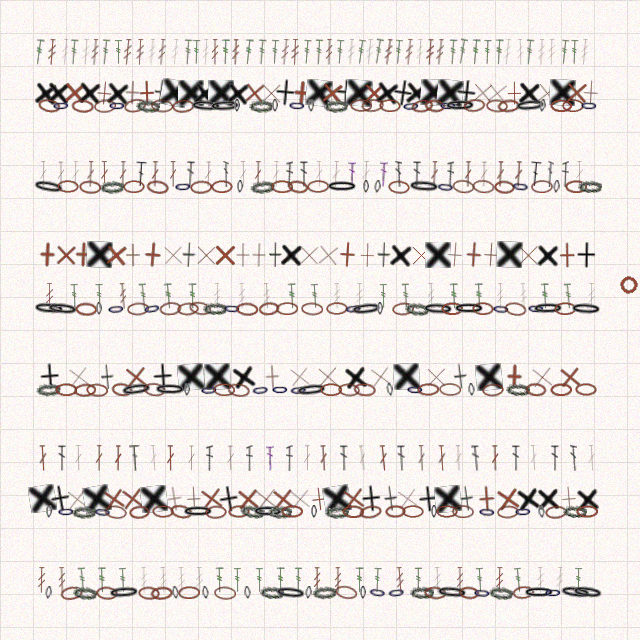chain: (32, 178, 65, 196), (120, 381, 153, 398), (559, 584, 592, 601), (571, 584, 604, 601), (46, 301, 79, 317), (350, 301, 383, 317), (295, 382, 328, 398), (274, 585, 307, 601), (514, 98, 547, 113), (408, 179, 440, 194), (33, 301, 65, 316), (108, 585, 140, 600), (436, 585, 468, 600), (190, 99, 222, 113), (209, 99, 241, 113), (422, 302, 454, 316), (570, 302, 602, 316), (444, 99, 476, 112), (326, 180, 358, 193), (453, 302, 485, 315), (532, 302, 564, 315), (154, 383, 186, 396), (182, 505, 214, 518), (252, 505, 284, 518), (523, 586, 555, 599), (37, 97, 61, 114), (123, 97, 147, 114), (188, 300, 212, 317), (169, 503, 193, 520), (334, 584, 358, 601), (250, 179, 275, 195), (36, 382, 61, 397), (240, 504, 265, 519), (312, 585, 337, 600), (411, 98, 434, 114), (146, 179, 169, 195), (504, 301, 527, 317), (227, 382, 250, 398), (104, 504, 127, 520), (359, 504, 382, 520), (60, 585, 83, 601), (287, 179, 309, 195), (361, 98, 384, 113), (463, 98, 486, 113), (452, 179, 475, 194), (472, 179, 495, 194), (159, 301, 182, 316), (143, 382, 166, 397), (353, 382, 376, 397), (512, 585, 535, 600), (136, 99, 160, 113), (249, 99, 273, 113), (324, 99, 348, 113), (100, 180, 124, 194), (405, 302, 429, 316), (72, 505, 96, 519), (268, 505, 292, 519), (325, 505, 349, 519), (73, 586, 97, 600), (489, 586, 513, 600), (258, 301, 280, 316), (111, 382, 133, 397), (525, 382, 547, 397), (71, 99, 94, 113), (497, 99, 520, 113), (150, 586, 173, 600), (578, 180, 602, 193), (203, 302, 227, 315), (506, 383, 530, 396), (563, 505, 587, 518), (260, 586, 284, 599), (410, 586, 434, 599), (94, 99, 116, 113), (151, 99, 173, 113), (172, 99, 194, 113), (424, 99, 446, 113), (486, 99, 508, 113), (79, 180, 101, 194), (190, 180, 212, 194), (388, 180, 410, 194), (75, 302, 97, 316), (127, 302, 149, 316), (177, 302, 199, 316), (236, 302, 258, 316), (301, 302, 323, 316), (392, 302, 414, 316), (74, 383, 96, 397), (86, 383, 108, 397), (338, 383, 360, 397), (482, 383, 504, 397), (205, 505, 227, 519), (497, 505, 519, 519), (545, 505, 567, 519), (96, 586, 118, 600), (138, 586, 160, 600), (214, 586, 236, 600), (424, 586, 446, 600), (458, 586, 480, 600), (142, 301, 162, 316), (494, 180, 515, 194), (129, 505, 150, 519), (350, 99, 372, 112), (379, 99, 401, 112), (550, 99, 572, 112), (562, 99, 584, 112), (57, 180, 79, 193), (123, 180, 145, 193), (211, 180, 233, 193), (271, 180, 293, 193), (307, 180, 329, 193), (531, 180, 553, 193), (565, 180, 587, 193), (276, 302, 298, 315), (326, 302, 348, 315), (441, 302, 463, 315), (472, 302, 494, 315), (554, 302, 576, 315), (55, 383, 77, 396), (213, 383, 235, 396), (320, 383, 342, 396), (417, 383, 439, 396), (439, 383, 461, 396), (550, 383, 572, 396), (575, 383, 597, 396), (152, 505, 174, 518), (228, 505, 250, 518), (281, 505, 303, 518), (342, 505, 364, 518), (402, 505, 424, 518), (436, 505, 458, 518), (452, 505, 474, 518), (576, 505, 598, 518), (178, 586, 200, 599), (511, 179, 530, 194), (344, 301, 363, 316), (368, 585, 387, 600), (387, 585, 406, 600), (385, 505, 406, 518), (436, 180, 455, 194), (251, 383, 270, 397), (289, 383, 308, 397), (93, 505, 112, 519), (402, 99, 420, 113), (107, 302, 125, 316), (492, 302, 510, 316), (200, 383, 218, 397), (478, 505, 496, 519), (473, 586, 491, 600), (52, 99, 70, 112), (108, 99, 126, 112), (288, 99, 306, 112), (439, 99, 457, 112), (580, 99, 598, 112), (174, 180, 192, 193), (223, 302, 241, 315), (527, 302, 545, 315), (271, 383, 289, 396), (406, 383, 424, 396), (57, 505, 75, 518), (514, 505, 532, 518), (544, 586, 562, 599), (386, 383, 394, 396), (539, 99, 546, 112), (374, 180, 381, 193), (553, 180, 560, 193), (468, 383, 475, 396), (538, 505, 545, 518), (45, 586, 52, 599), (172, 586, 179, 599), (202, 586, 209, 599), (244, 586, 251, 599), (305, 586, 312, 599), (234, 99, 240, 112), (272, 99, 278, 112), (308, 99, 314, 112), (237, 180, 243, 193), (363, 180, 369, 193), (96, 302, 102, 315), (377, 302, 383, 315), (184, 383, 190, 396), (46, 505, 52, 518), (311, 505, 317, 518), (431, 505, 437, 518), (360, 586, 366, 599)
double: (529, 161, 542, 187), (135, 161, 147, 187), (129, 445, 141, 471), (357, 445, 368, 471), (378, 445, 389, 471), (331, 161, 341, 187), (361, 161, 371, 187), (38, 445, 48, 471), (437, 445, 447, 471), (471, 445, 481, 471), (71, 161, 80, 187), (86, 161, 95, 187), (100, 161, 109, 187), (186, 161, 195, 187), (379, 161, 388, 187), (430, 161, 439, 187), (496, 161, 505, 187), (514, 161, 523, 187), (575, 161, 584, 187), (74, 445, 83, 471), (149, 445, 158, 471), (166, 445, 175, 471), (187, 445, 196, 471), (226, 445, 235, 471), (319, 445, 328, 471), (397, 445, 406, 471), (417, 445, 426, 471), (454, 445, 463, 471), (529, 445, 538, 471), (587, 445, 596, 471), (39, 161, 47, 187), (57, 161, 65, 187), (119, 161, 127, 187), (151, 161, 159, 187), (169, 161, 177, 187), (204, 161, 212, 187), (239, 161, 247, 187), (254, 161, 262, 187), (272, 161, 280, 187), (300, 161, 308, 187), (315, 161, 323, 187), (348, 161, 356, 187), (413, 161, 421, 187), (464, 161, 472, 187), (480, 161, 488, 187), (546, 161, 554, 187), (58, 445, 66, 471), (95, 445, 103, 471), (114, 445, 122, 471), (266, 445, 274, 471), (303, 445, 311, 471), (340, 445, 348, 471), (491, 445, 499, 471), (512, 445, 520, 471), (551, 445, 559, 471), (286, 161, 293, 187), (395, 161, 402, 187), (447, 161, 454, 187), (562, 161, 569, 187), (206, 445, 213, 471), (246, 445, 253, 471), (286, 445, 293, 471), (570, 445, 577, 471), (223, 161, 229, 187)
noise: (617, 273, 640, 296)
single: (159, 78, 189, 108), (82, 484, 112, 514), (99, 484, 129, 514), (322, 484, 352, 514), (493, 484, 523, 514), (64, 362, 93, 391), (285, 362, 314, 391), (366, 362, 395, 391), (28, 484, 57, 513), (118, 484, 147, 513), (160, 484, 189, 513), (197, 484, 226, 513), (339, 484, 368, 513), (393, 484, 422, 513), (230, 362, 258, 391), (90, 79, 118, 107), (288, 79, 316, 107), (305, 79, 333, 107), (318, 79, 346, 107), (345, 79, 373, 107), (436, 79, 464, 107), (483, 79, 511, 107), (533, 79, 561, 107), (102, 241, 130, 269), (314, 241, 342, 269), (122, 363, 150, 391), (177, 363, 205, 391), (475, 363, 503, 391), (528, 363, 556, 391), (556, 363, 584, 391), (63, 485, 91, 513), (140, 485, 168, 513), (234, 485, 262, 513), (252, 485, 280, 513), (269, 485, 297, 513), (286, 485, 314, 513), (305, 485, 333, 513), (434, 485, 462, 513), (374, 78, 401, 107), (515, 484, 542, 513), (241, 79, 268, 107), (61, 79, 88, 106), (119, 79, 146, 106), (420, 79, 447, 106), (469, 79, 496, 106), (549, 79, 576, 106), (563, 79, 590, 106), (577, 79, 604, 106), (34, 241, 61, 268), (70, 241, 97, 268), (86, 241, 113, 268), (139, 241, 166, 268), (334, 241, 361, 268), (441, 241, 468, 268), (460, 241, 487, 268), (477, 241, 504, 268), (496, 241, 523, 268), (204, 363, 231, 390), (259, 363, 286, 390), (314, 363, 341, 390), (393, 363, 420, 390), (501, 363, 528, 390), (180, 485, 207, 512), (473, 485, 500, 512), (555, 485, 582, 512), (33, 79, 59, 107), (105, 79, 131, 107), (192, 79, 218, 107), (225, 79, 251, 107), (388, 241, 414, 269), (343, 363, 369, 391), (575, 485, 601, 513), (77, 79, 103, 106), (404, 79, 430, 106), (48, 484, 72, 513), (134, 80, 160, 106), (178, 80, 204, 106), (208, 80, 234, 106), (258, 80, 284, 106), (361, 80, 387, 106), (501, 80, 527, 106), (53, 242, 79, 268), (120, 242, 146, 268), (160, 242, 186, 268), (193, 242, 219, 268), (212, 242, 238, 268), (230, 242, 256, 268), (246, 242, 272, 268), (296, 242, 322, 268), (354, 242, 380, 268), (408, 242, 434, 268), (425, 242, 451, 268), (515, 242, 541, 268), (554, 242, 580, 268), (423, 364, 449, 390), (46, 79, 71, 106), (517, 79, 542, 106), (279, 241, 304, 268), (536, 485, 561, 512), (391, 79, 414, 107), (217, 485, 240, 513), (536, 242, 560, 268), (455, 79, 477, 107), (417, 485, 439, 513), (274, 79, 296, 106), (360, 485, 382, 512), (335, 79, 356, 106), (39, 363, 60, 390), (152, 363, 173, 390), (576, 242, 596, 268), (153, 79, 169, 106), (383, 485, 399, 512), (459, 485, 475, 512), (453, 363, 468, 390), (100, 364, 115, 390), (182, 242, 196, 268), (377, 242, 391, 268), (269, 242, 282, 268)
treble: (372, 38, 385, 65), (456, 38, 469, 65), (33, 39, 45, 65), (355, 39, 367, 65), (100, 39, 111, 65), (122, 39, 133, 65), (243, 39, 254, 65), (364, 39, 375, 65), (383, 39, 394, 65), (393, 39, 404, 65), (470, 39, 481, 65), (502, 39, 513, 65), (524, 39, 535, 65), (559, 39, 570, 65), (579, 39, 590, 65), (138, 283, 149, 309), (163, 283, 174, 309), (563, 283, 574, 309), (77, 567, 88, 593), (513, 567, 524, 593), (47, 39, 57, 65), (60, 39, 70, 65), (69, 39, 79, 65), (81, 39, 91, 65), (90, 39, 100, 65), (135, 39, 145, 65), (147, 39, 157, 65), (157, 39, 167, 65), (170, 39, 180, 65), (183, 39, 193, 65), (257, 39, 267, 65), (270, 39, 280, 65), (280, 39, 290, 65), (290, 39, 300, 65), (302, 39, 312, 65), (314, 39, 324, 65), (335, 39, 345, 65), (346, 39, 356, 65), (404, 39, 414, 65), (425, 39, 435, 65), (435, 39, 445, 65), (448, 39, 458, 65), (494, 39, 504, 65), (118, 283, 128, 309), (287, 283, 297, 309), (310, 283, 320, 309), (401, 283, 411, 309), (449, 283, 459, 309), (474, 283, 484, 309), (540, 283, 550, 309), (97, 567, 107, 593), (118, 567, 128, 593), (395, 567, 405, 593), (475, 567, 485, 593), (114, 39, 123, 65), (192, 39, 201, 65), (201, 39, 210, 65), (221, 39, 230, 65), (231, 39, 240, 65), (415, 39, 424, 65), (483, 39, 492, 65), (537, 39, 546, 65), (547, 39, 556, 65), (570, 39, 579, 65), (45, 283, 54, 309), (70, 283, 79, 309), (95, 283, 104, 309), (188, 283, 197, 309), (262, 283, 271, 309), (355, 283, 364, 309), (379, 283, 388, 309), (519, 283, 528, 309), (587, 283, 596, 309), (37, 567, 46, 593), (177, 567, 186, 593), (195, 567, 204, 593), (215, 567, 224, 593), (233, 567, 242, 593), (255, 567, 264, 593), (276, 567, 285, 593), (294, 567, 303, 593), (355, 567, 364, 593), (373, 567, 382, 593), (414, 567, 423, 593), (433, 567, 442, 593), (495, 567, 504, 593), (536, 567, 545, 593), (555, 567, 564, 593), (574, 567, 583, 593), (211, 39, 219, 65), (325, 39, 333, 65), (516, 39, 524, 65), (213, 283, 221, 309), (238, 283, 246, 309), (333, 283, 341, 309), (427, 283, 435, 309), (496, 283, 504, 309), (58, 567, 66, 593), (140, 567, 148, 593), (159, 567, 167, 593), (313, 567, 321, 593), (334, 567, 342, 593), (456, 567, 464, 593)
